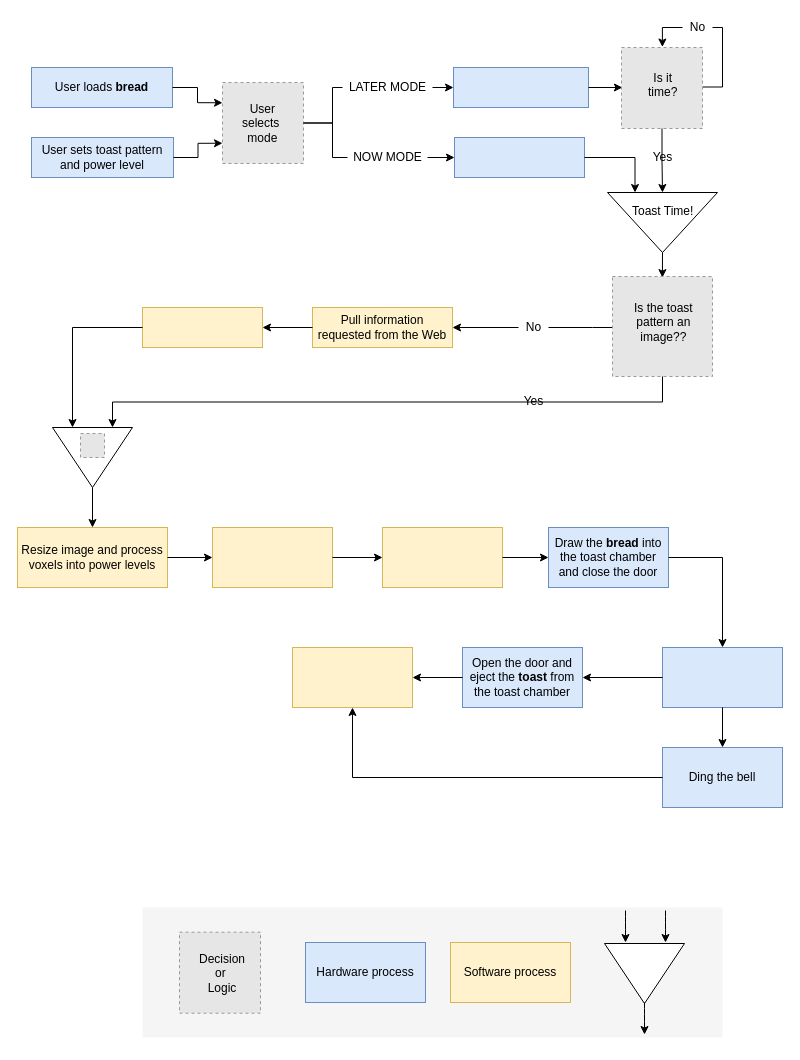
This 800x1060 diagram has some shape labels left out. Grey dashed boxes stand in for pictures. The centre of each missing label's shape, as x and y in pixels:
"Convert information into an image" goes at (202,327).
"Fire the laser (while moving the toast)" goes at (722,677).
"Generate G-code" goes at (272,557).
"Merge" goes at (644,973).
"Patiently await the next toasting duty" goes at (352,677).
"Upload to RAMBo" goes at (442,557).
"User presses GO" goes at (519,157).
"User schedules toasting" goes at (520,87).
